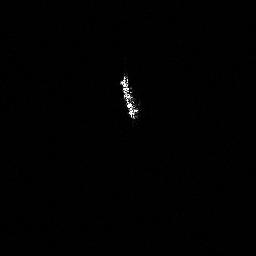ship: (115, 70, 147, 122)
